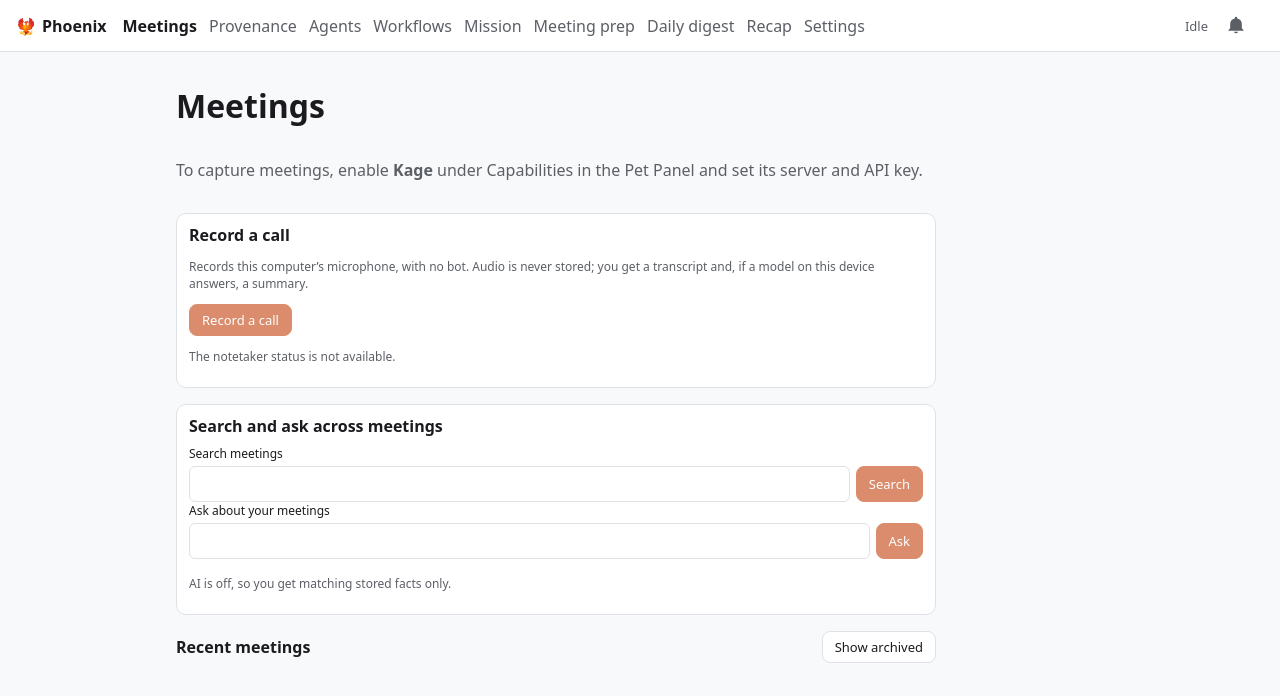
Scenario: Search across meetings › shows hits with where they came from, link to the meeting and how they were found
Type "migration" into the field labelled "Search meetings" at (519, 484), box [189,466,850,502]
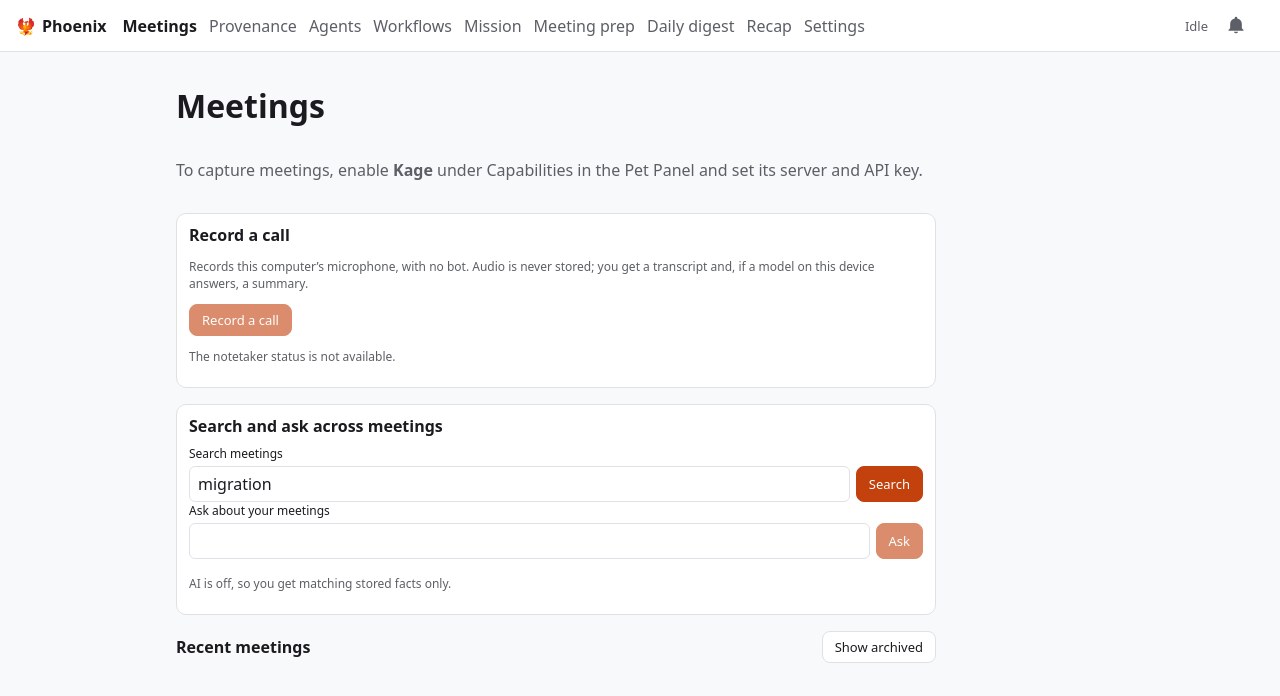
Click the button "Search" at (889, 484), box [856,466,923,502]
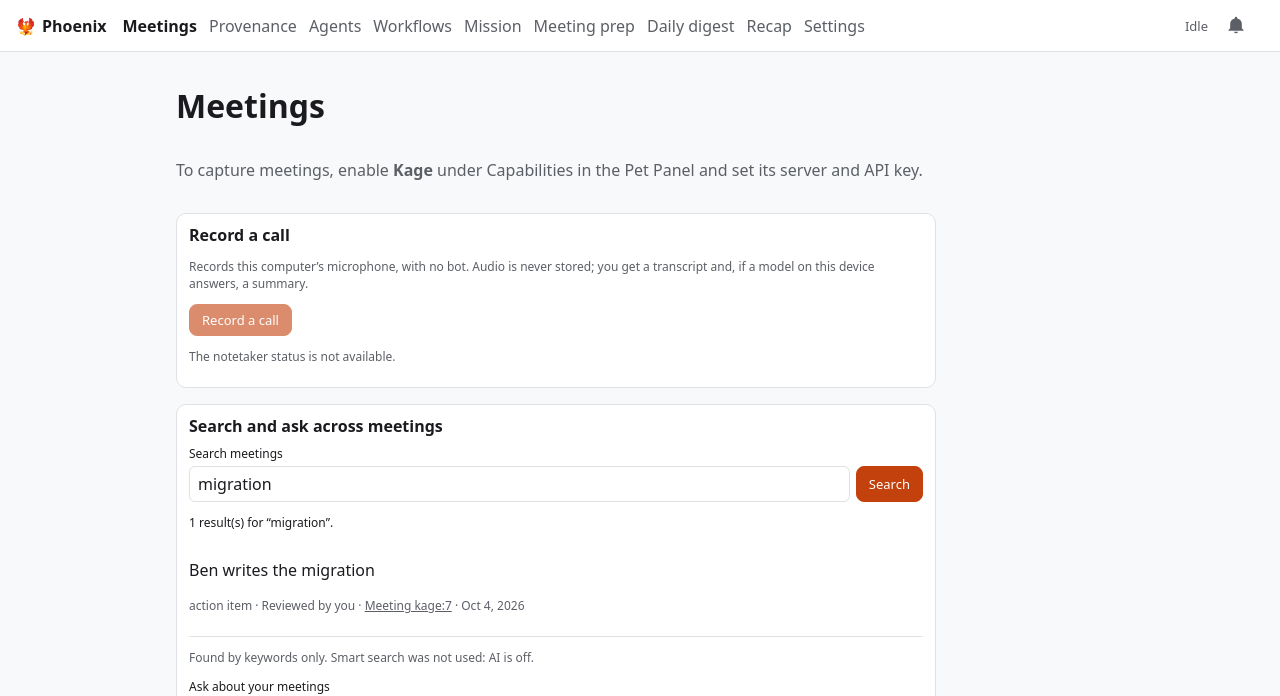
Expected: the text "Ben writes the migration" is shown, [189,559,375,581]
Expected: the text "action item · Reviewed by you · Meeting kage:7 · Oct 4, 2026" is shown, [189,597,524,614]
Expected: the text "Found by keywords only. Smart search was not used: AI is off" is shown, [189,649,534,666]
